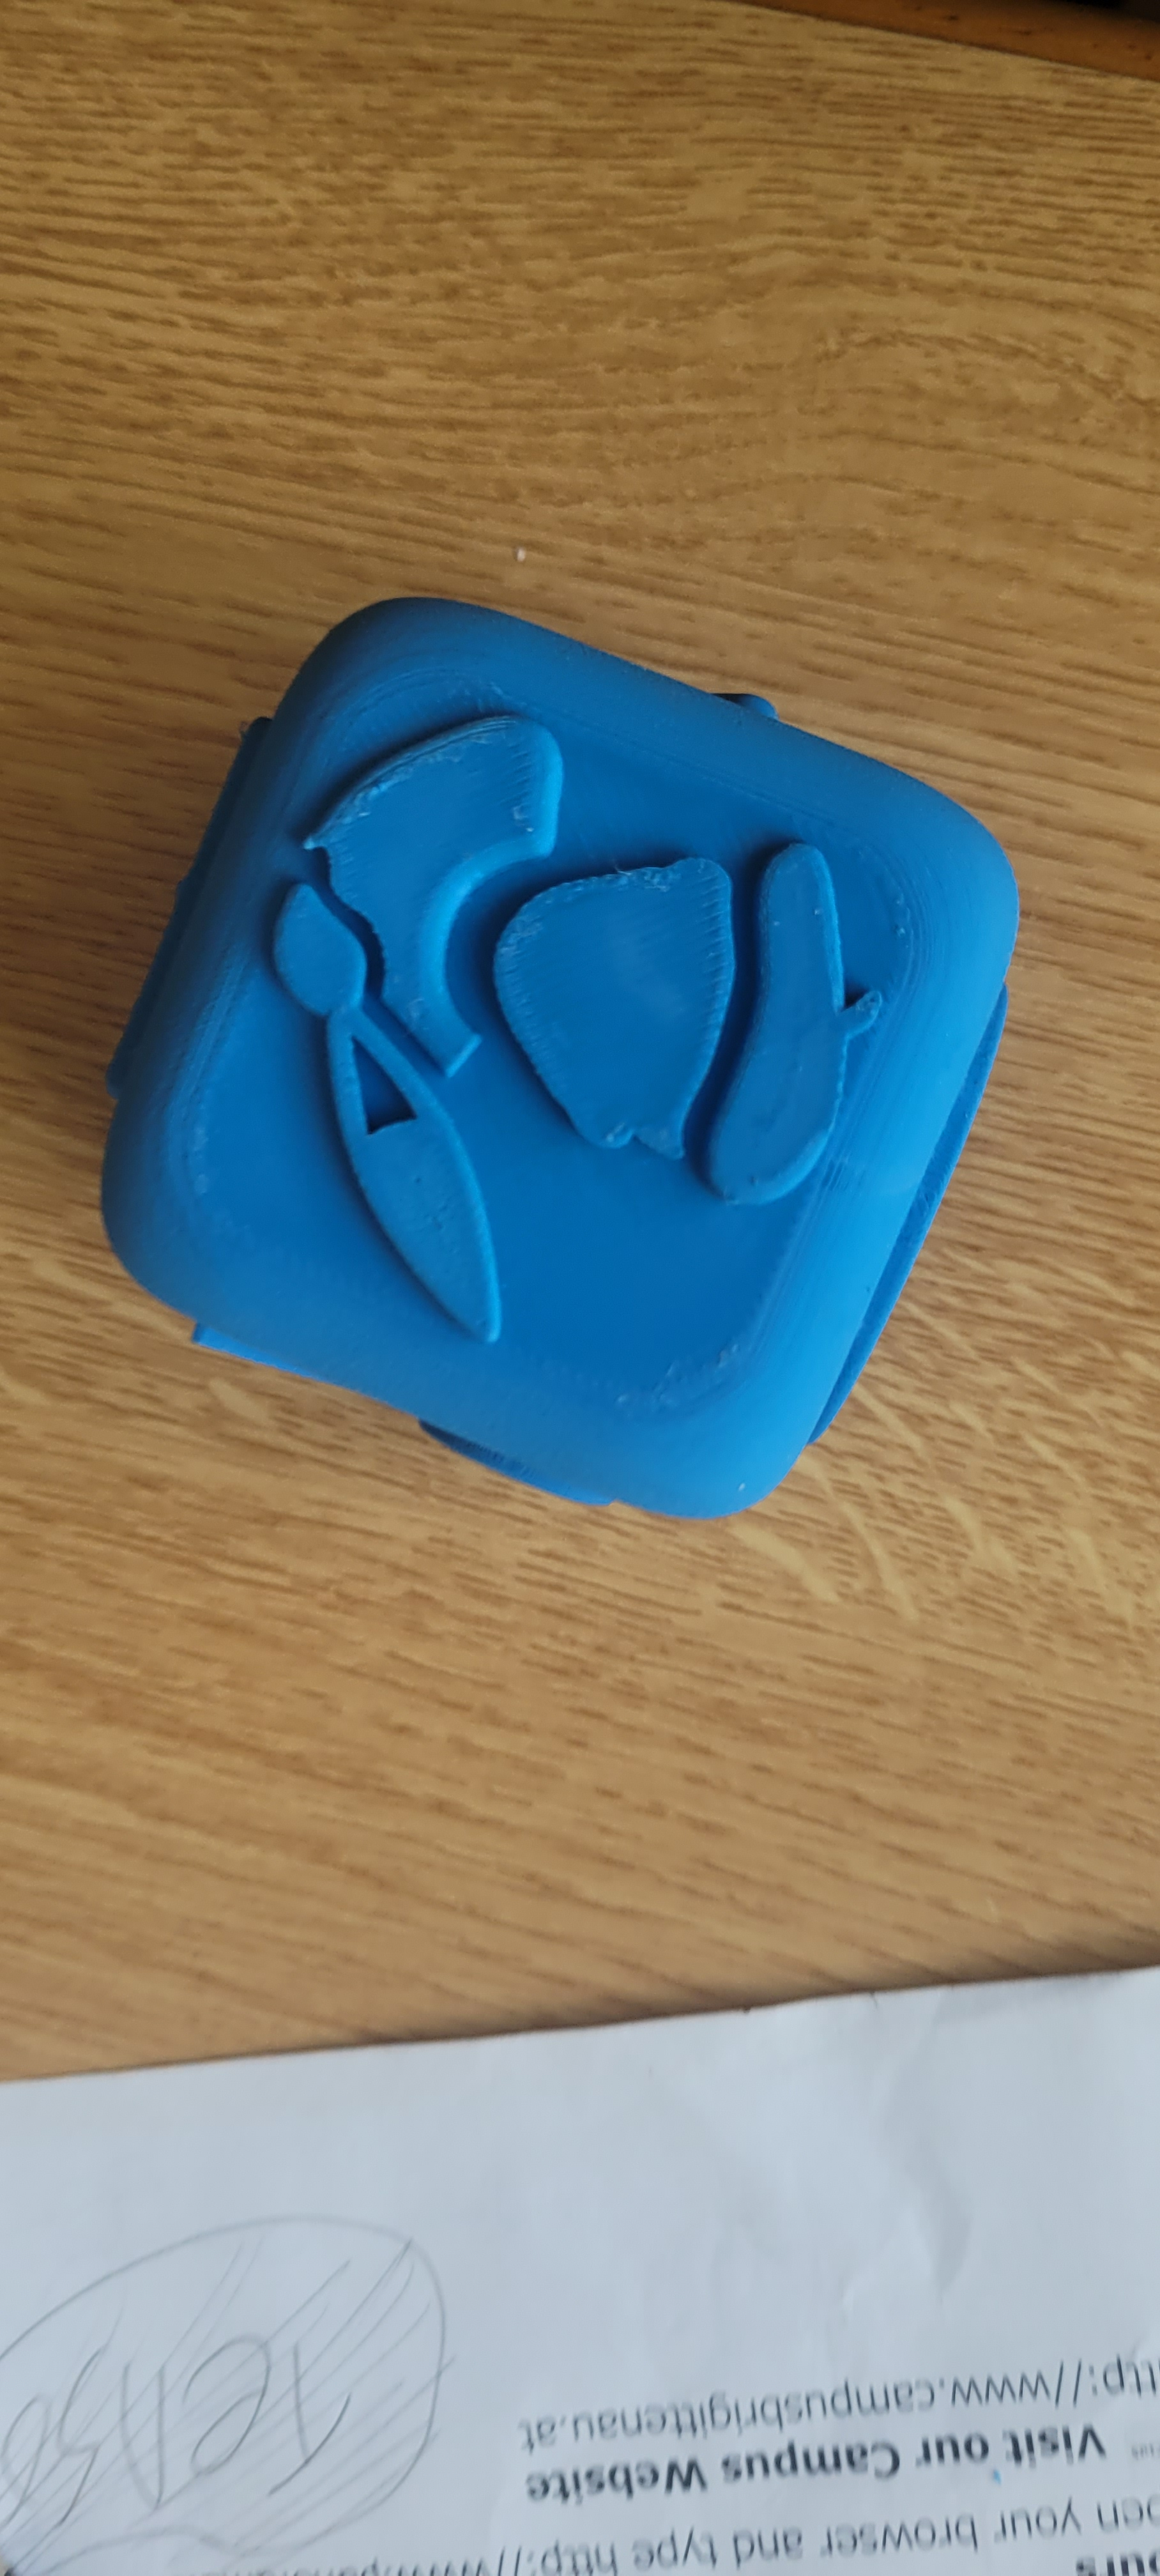Artist_Info: (145, 522, 992, 1477)
